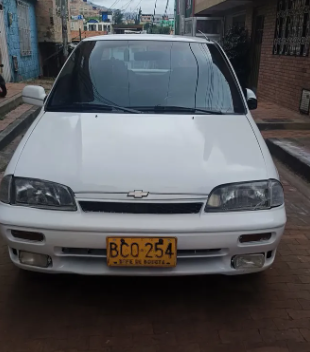placa: (105, 236, 179, 268)
